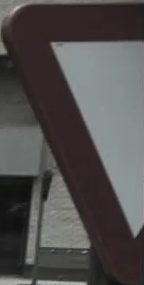Give way: (7, 3, 142, 265)
